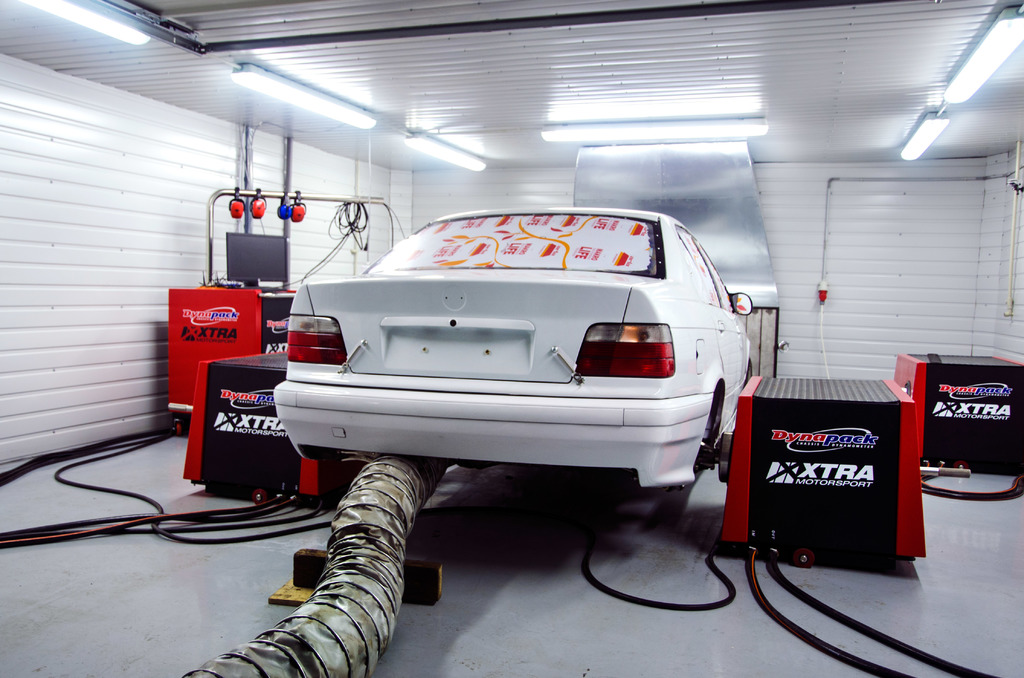car: (247, 185, 783, 529)
